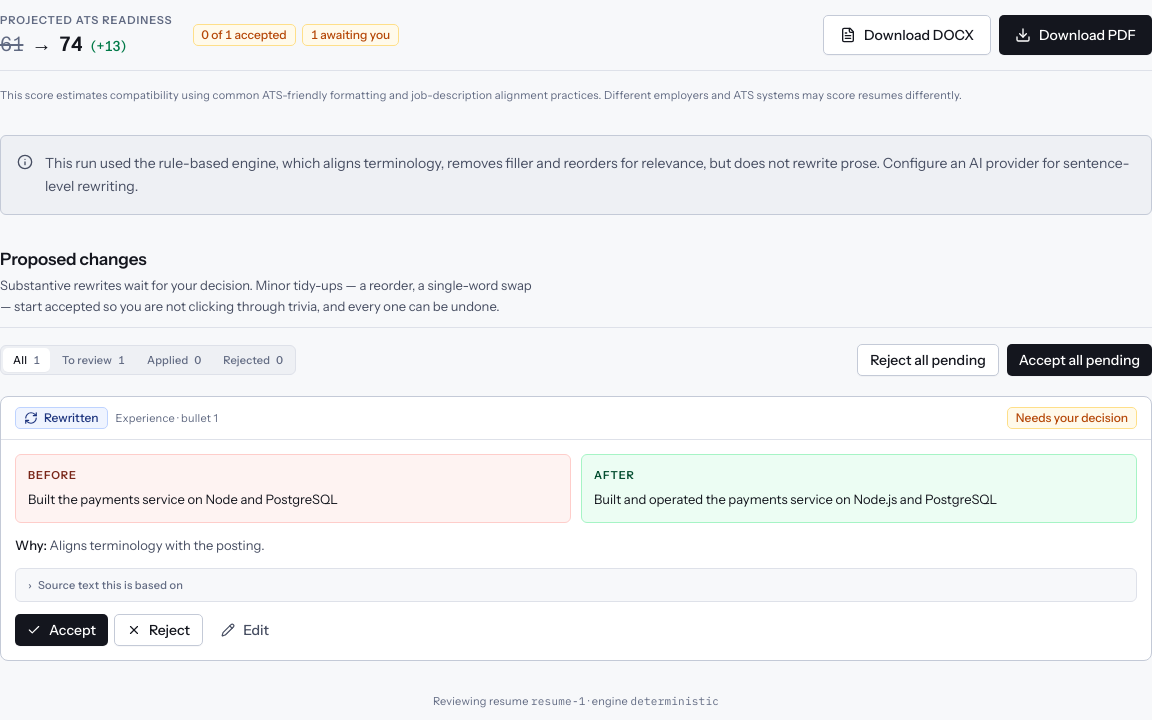
Test: exporting › surfaces generator warnings rather than swallowing them
Click the button "Download PDF".
click(1076, 35)  # box [999, 15, 1151, 55]
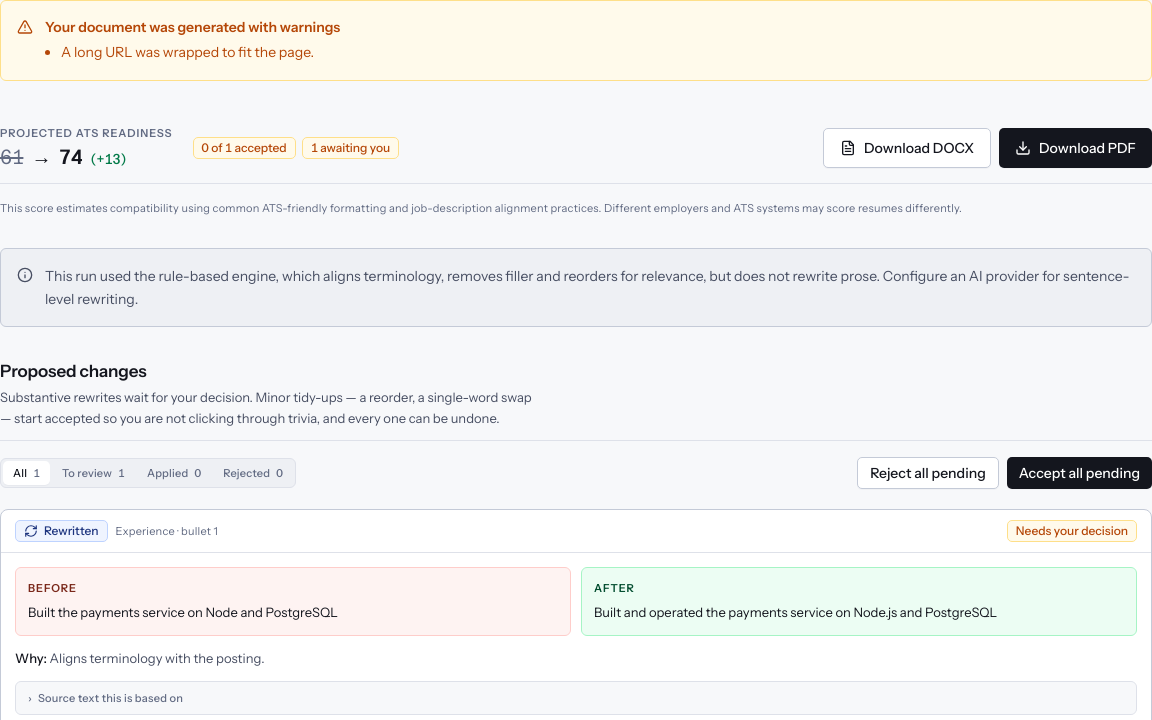
Expected: the list item "A long URL was wrapped to fit the page." is shown, [61, 43, 314, 61]
